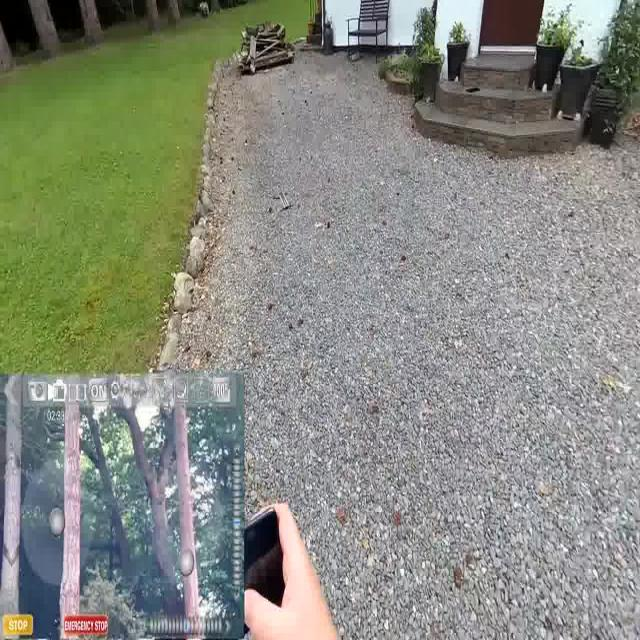drones: (274, 179, 298, 229)
